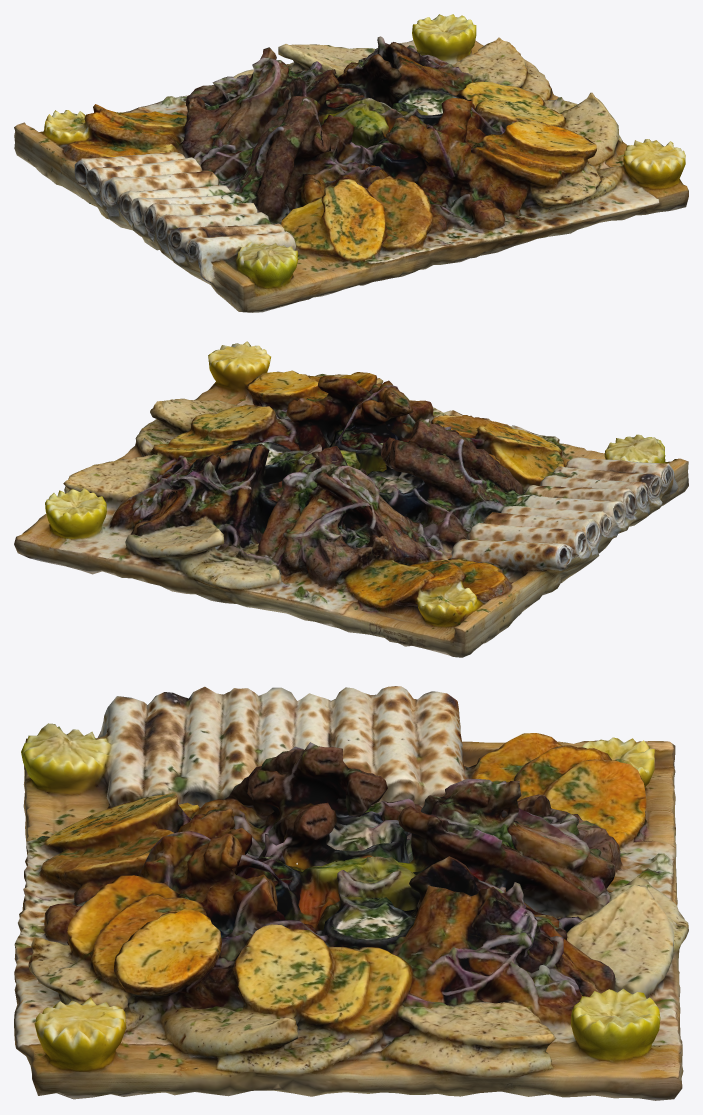
The model's file is greek-house-board.glb.
3 views of the same model, one above another, from view 1: azimuth 30°, elevation 25°; view 2: azimuth 150°, elevation 25°; view 3: azimuth 270°, elevation 25° (orthographic). The views are drawn at different scales.
Visible parts, largest first — view 1: ObjectCapture; view 2: ObjectCapture; view 3: ObjectCapture.
Part boxes in pixels (left/top/right/bottom): ObjectCapture: left=14, top=14, right=688, bottom=312; ObjectCapture: left=14, top=341, right=688, bottom=657; ObjectCapture: left=14, top=686, right=688, bottom=1100.
Size of the model in its own units: 0.569 by 0.1307 by 0.4825.
1 material, 1 textured.
